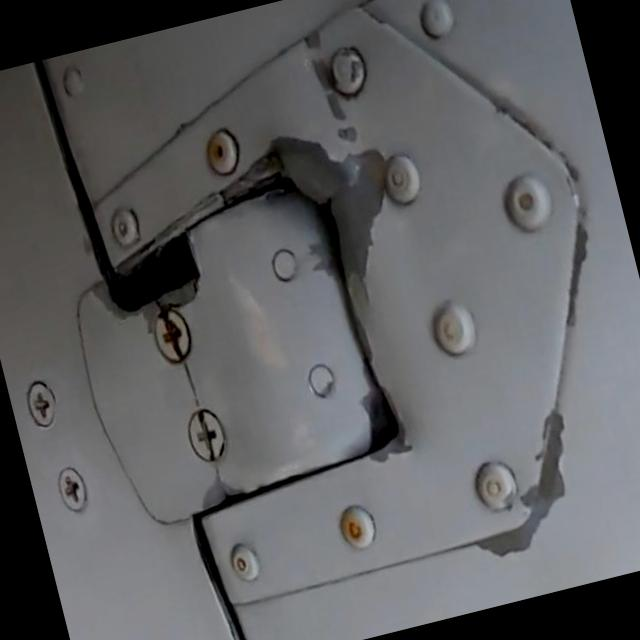crack: (168, 362, 212, 414)
